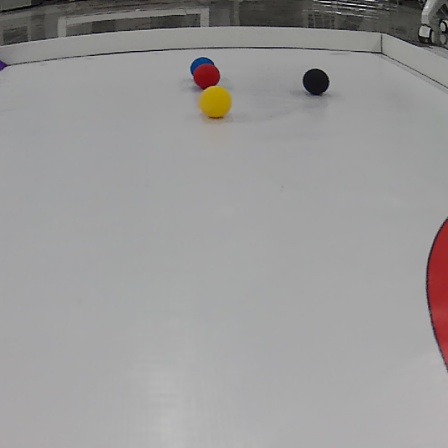black: (299, 63, 332, 97)
blue: (189, 55, 215, 79)
red: (192, 64, 222, 89)
red_base: (421, 205, 448, 382)
yellow: (197, 85, 234, 120)
